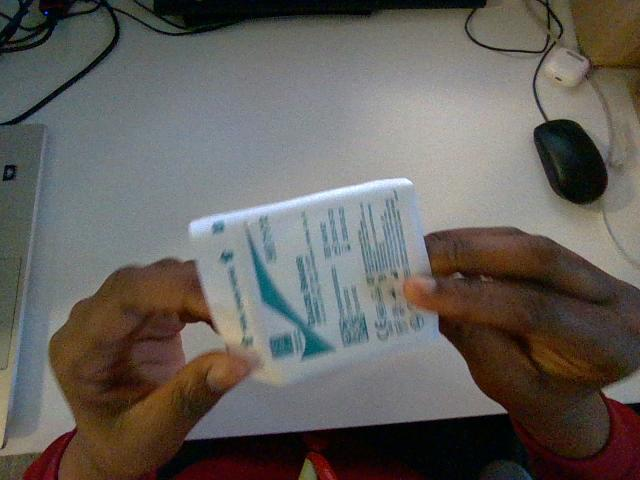gauze: (189, 179, 438, 383)
